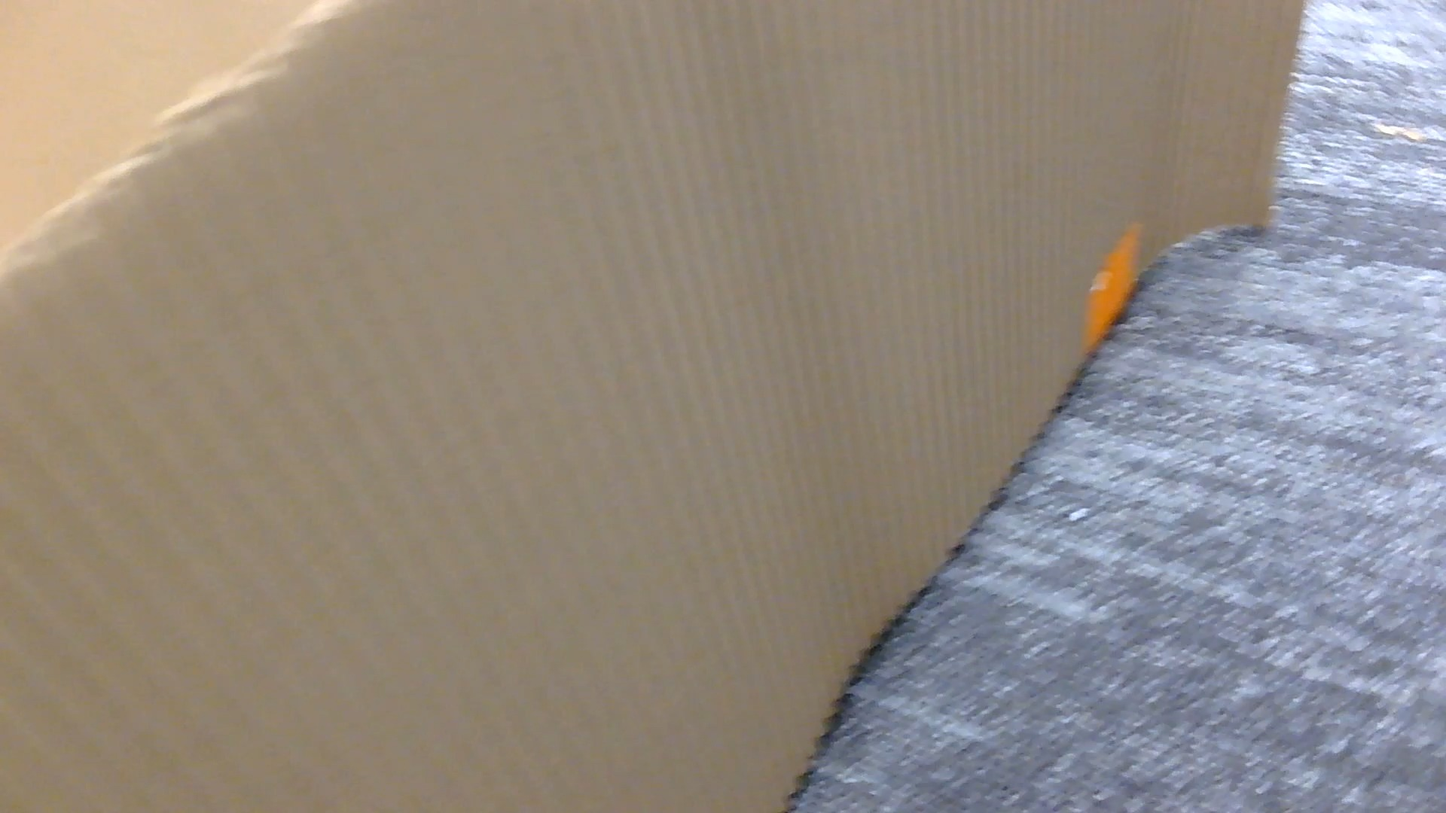Ramp: (0, 0, 1303, 812)
